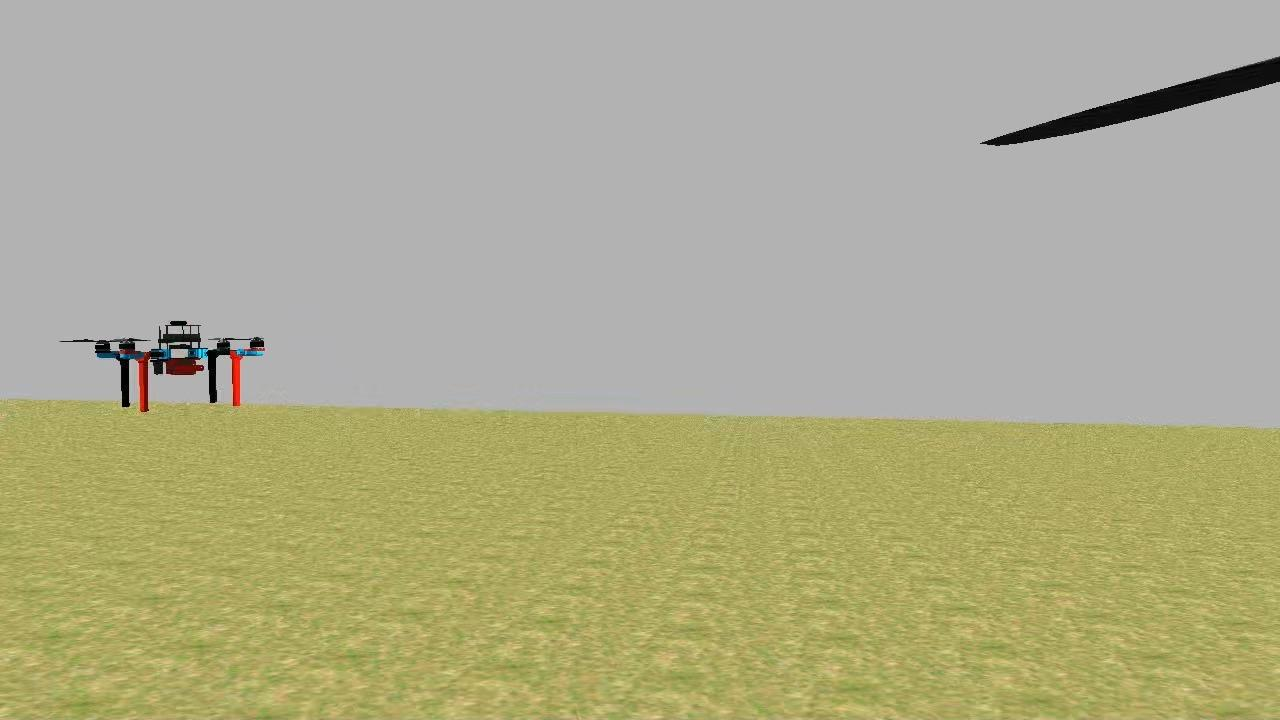UAV: (82, 310, 276, 422)
